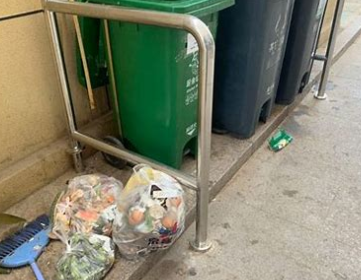garbage: (119, 164, 185, 257), (49, 177, 123, 243), (1, 211, 50, 276), (51, 239, 121, 280), (266, 123, 297, 156)
